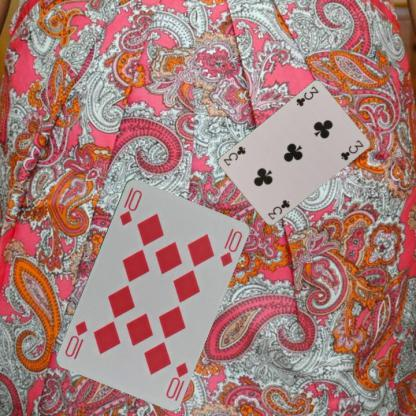10d: (163, 359, 189, 400), (117, 186, 143, 226)
3c: (265, 197, 291, 221), (294, 84, 320, 108)
